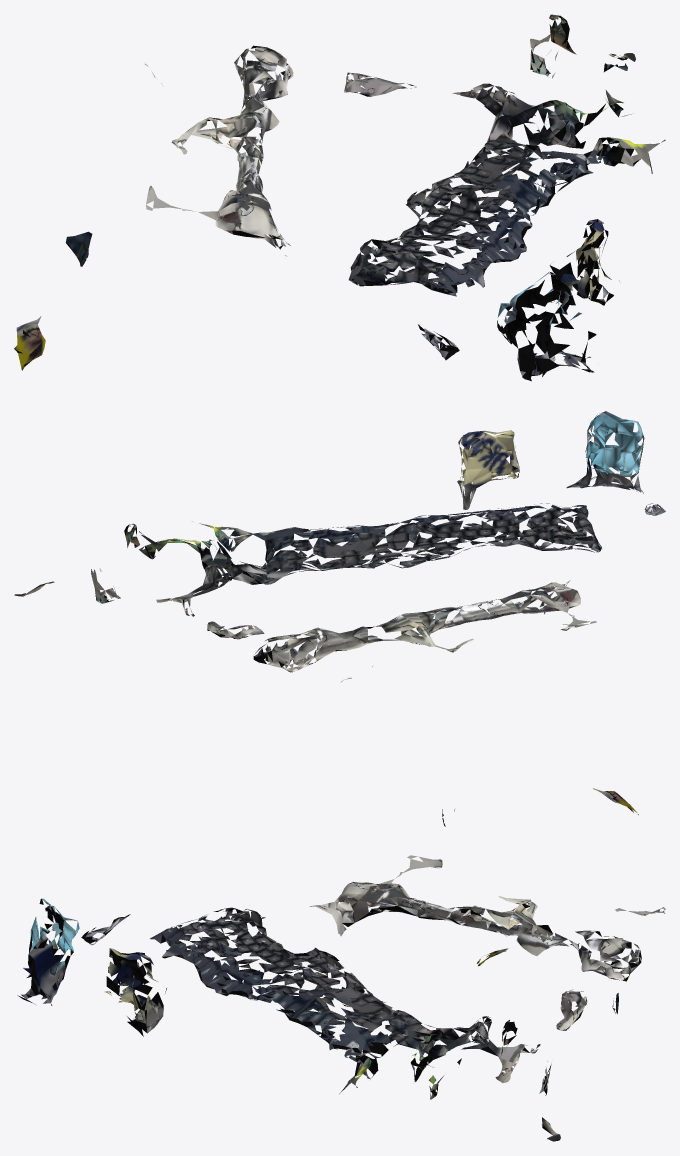
The picture shows the model from 3 angles, top to bottom: view 1: azimuth 30°, elevation 25°; view 2: azimuth 150°, elevation 25°; view 3: azimuth 270°, elevation 25°; orthographic projection. The views are drawn at different scales.
Visible parts, largest first — view 1: geometry_0; view 2: geometry_0; view 3: geometry_0.
Boxes of the visible parts, left/top/right/bottom form: geometry_0: left=14, top=14, right=665, bottom=381; geometry_0: left=14, top=411, right=665, bottom=826; geometry_0: left=17, top=855, right=665, bottom=1141.
Bounding box in the file's own units: 18.86 × 5.69 × 18.51.
Materials: 1 (1 with a texture image).
